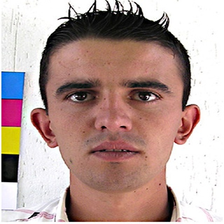no_mask: (46, 51, 184, 190)
